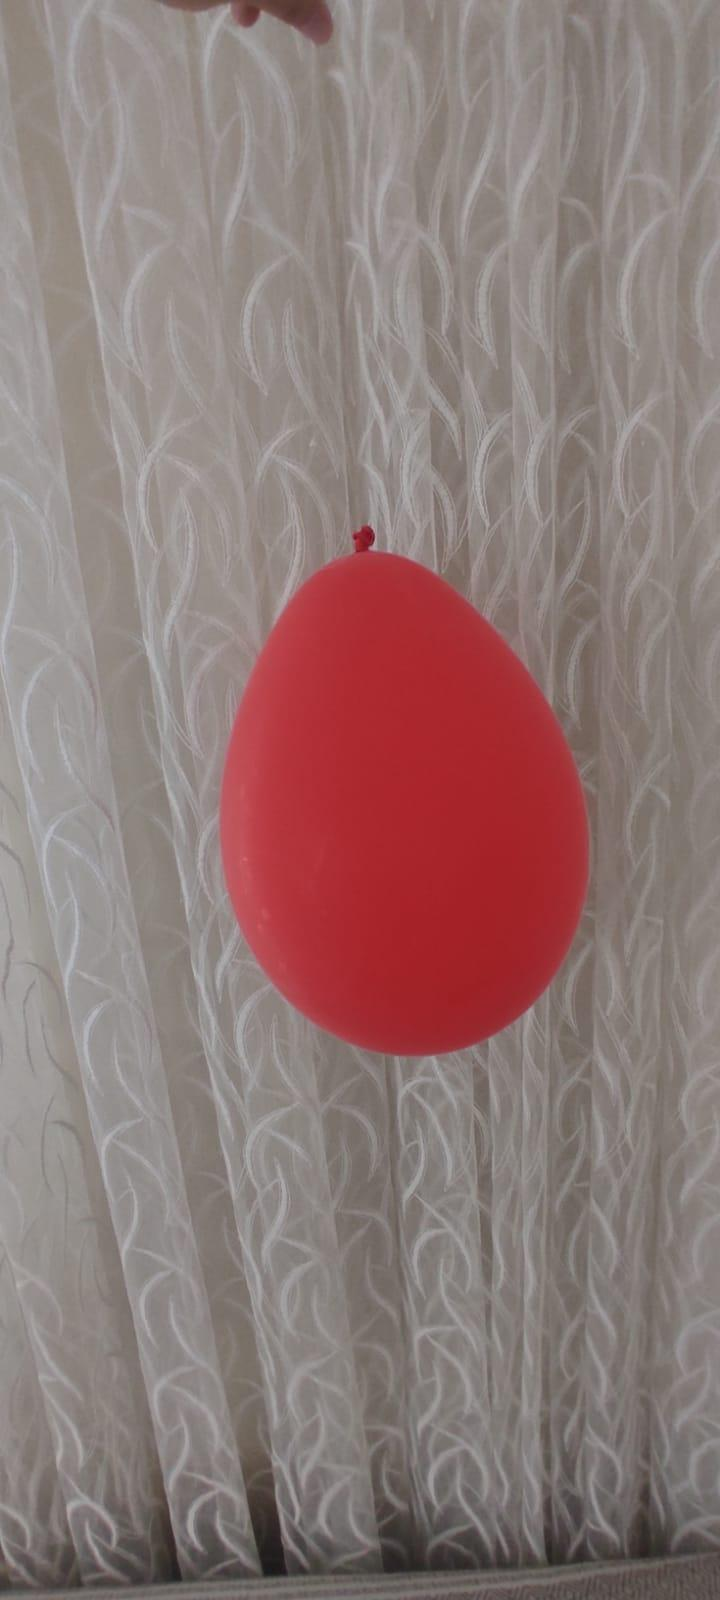red: (214, 517, 605, 1061)
